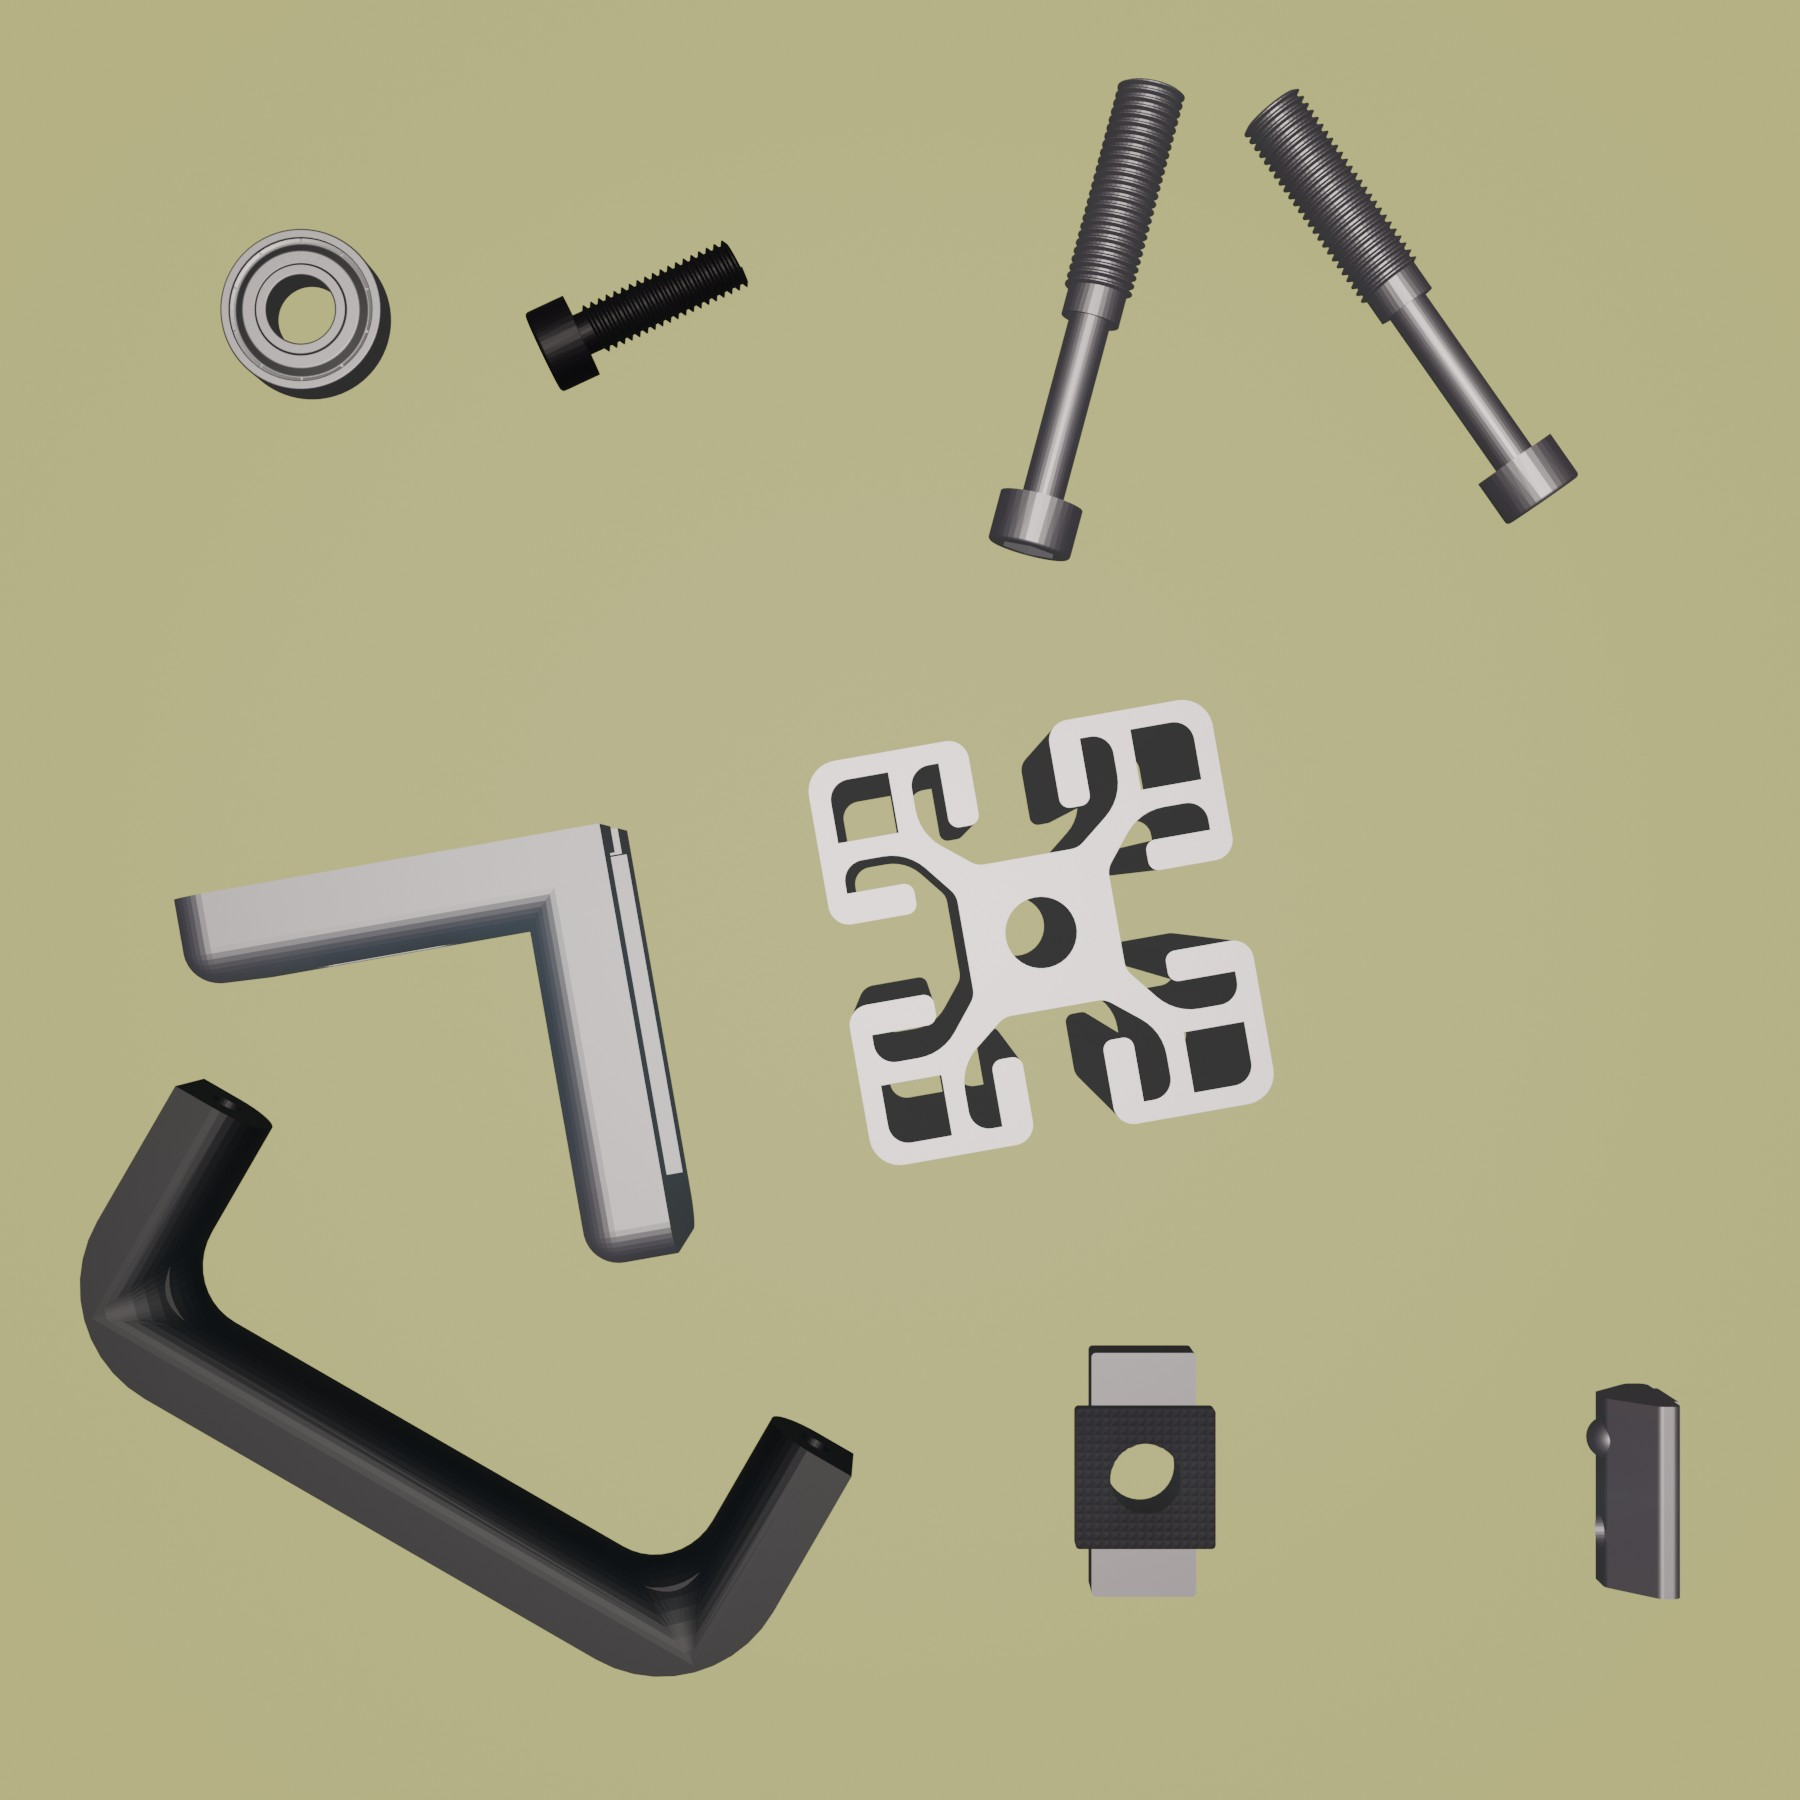Aluminium Extension: (806, 696, 1277, 1169)
Ball Bearing: (214, 224, 392, 401)
Multiwinkel: (171, 819, 701, 1264)
Pull Handle: (76, 1073, 855, 1678)
Shoulder Socket Head Cap Screw: (1240, 82, 1582, 527), (986, 76, 1188, 564)
Socket Head Cap Screw: (524, 234, 753, 396)
T Nut Square: (1070, 1337, 1220, 1604)
T Spring Nut: (1582, 1376, 1685, 1604)
